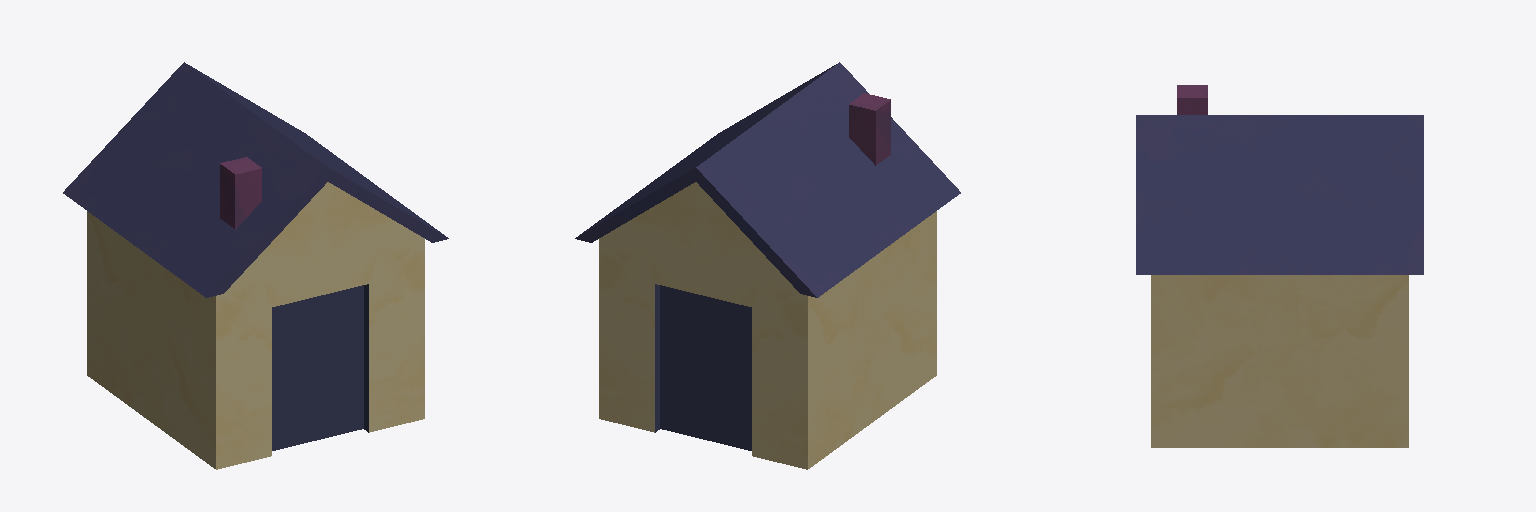
3 renders of one model, left to right at view 1: azimuth 30°, elevation 25°; view 2: azimuth 150°, elevation 25°; view 3: azimuth 270°, elevation 25°, orthographic.
Parts seen in each view (by area): view 1: SM_Cabana_02:SM_Cabana1, pCube1; view 2: SM_Cabana_02:SM_Cabana1, pCube1; view 3: SM_Cabana_02:SM_Cabana1, pCube1.
Part boxes in pixels (x1,y1,x2,y2): SM_Cabana_02:SM_Cabana1: (63, 62, 448, 469); pCube1: (220, 157, 261, 229); SM_Cabana_02:SM_Cabana1: (575, 62, 960, 469); pCube1: (849, 93, 890, 165); SM_Cabana_02:SM_Cabana1: (1136, 115, 1423, 447); pCube1: (1177, 85, 1207, 114).
Bounding box in the file's own units: 0.6832 × 0.7582 × 0.7007.
2 materials, 1 textured.